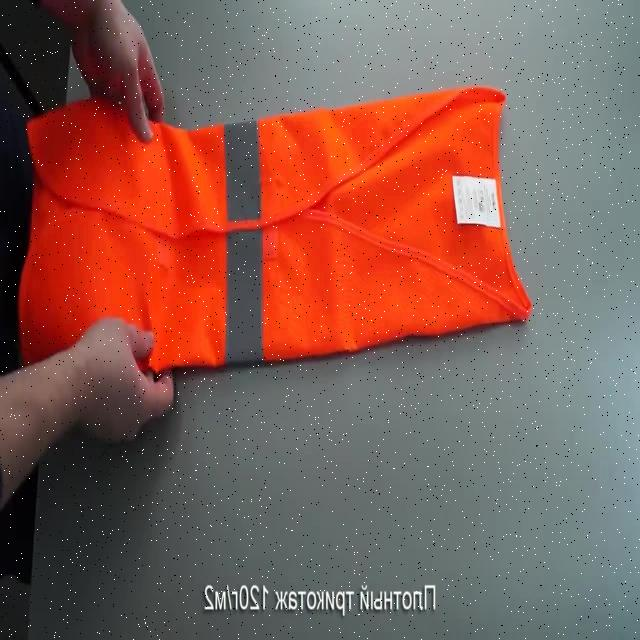Vest: (18, 83, 517, 396)
